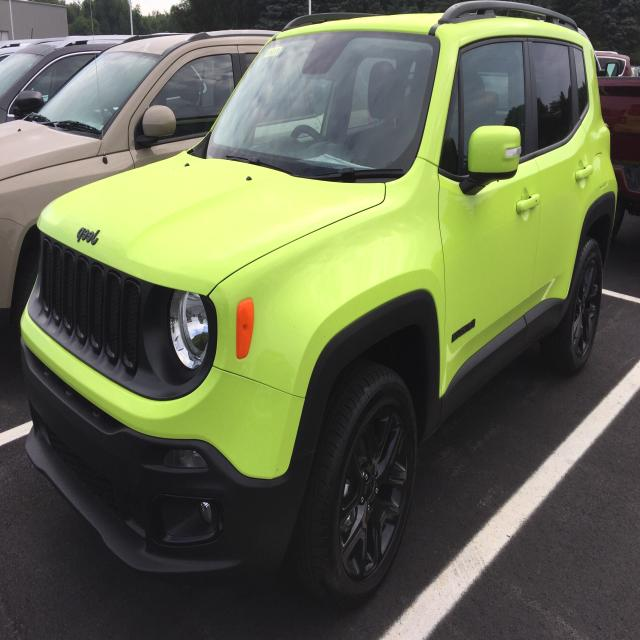green: (19, 3, 614, 595)
